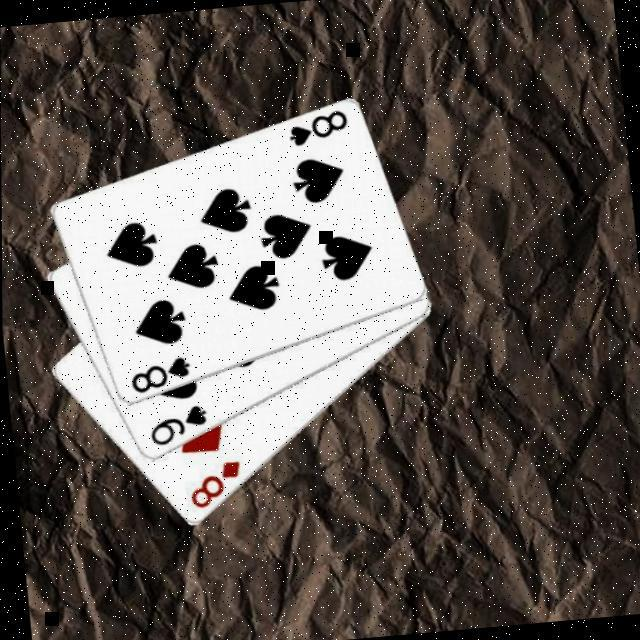8D: (185, 458, 247, 514)
8S: (127, 354, 196, 398), (285, 108, 354, 152)
9S: (146, 403, 213, 452)
